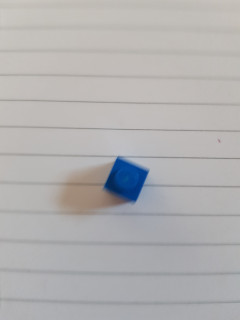1x1 blue: (102, 157, 150, 204)
